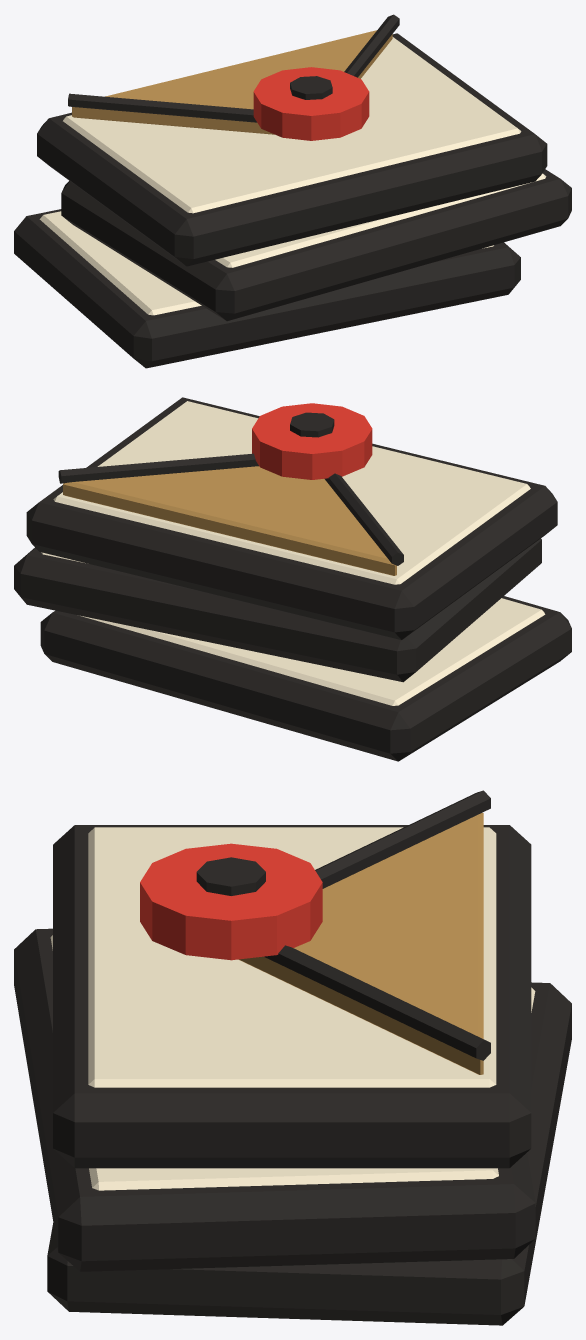
The model's file is credit.glb.
3 views of the same model, one above another, from view 1: azimuth 30°, elevation 25°; view 2: azimuth 150°, elevation 25°; view 3: azimuth 270°, elevation 25° (orthographic). The views are drawn at different scales.
Visible parts, largest first — view 1: credit-dark-envelope-edge-2, credit-cream-envelope-2, credit-dark-envelope-edge-1, credit-dark-envelope-edge-0, credit-large-envelope-flap, credit-large-red-wax-seal, credit-cream-envelope-0, credit-envelope-fold-left, credit-cream-envelope-1, credit-envelope-fold-right, credit-wax-seal-stamp; view 2: credit-dark-envelope-edge-2, credit-dark-envelope-edge-0, credit-dark-envelope-edge-1, credit-cream-envelope-2, credit-large-envelope-flap, credit-cream-envelope-0, credit-large-red-wax-seal, credit-envelope-fold-right, credit-envelope-fold-left, credit-wax-seal-stamp; view 3: credit-dark-envelope-edge-2, credit-cream-envelope-2, credit-dark-envelope-edge-1, credit-dark-envelope-edge-0, credit-large-envelope-flap, credit-large-red-wax-seal, credit-cream-envelope-1, credit-envelope-fold-right, credit-envelope-fold-left, credit-wax-seal-stamp.
Boxes of the visible parts, box(x1,y1,x2,y2) form: credit-dark-envelope-edge-2: box(37, 33, 547, 266); credit-cream-envelope-2: box(63, 37, 521, 213); credit-dark-envelope-edge-1: box(61, 169, 571, 321); credit-dark-envelope-edge-0: box(14, 209, 520, 368); credit-large-envelope-flap: box(72, 30, 392, 134); credit-large-red-wax-seal: box(253, 67, 369, 140); credit-cream-envelope-0: box(39, 211, 493, 315); credit-envelope-fold-left: box(68, 93, 256, 122); credit-cream-envelope-1: box(215, 173, 546, 267); credit-envelope-fold-right: box(344, 14, 399, 77); credit-wax-seal-stamp: box(290, 76, 332, 99); credit-dark-envelope-edge-2: box(26, 397, 557, 639); credit-dark-envelope-edge-0: box(40, 596, 571, 761); credit-dark-envelope-edge-1: box(14, 538, 541, 682); credit-cream-envelope-2: box(53, 401, 530, 584); credit-large-envelope-flap: box(63, 466, 396, 575); credit-cream-envelope-0: box(80, 598, 545, 705); credit-large-red-wax-seal: box(252, 403, 372, 479); credit-envelope-fold-right: box(58, 453, 258, 483); credit-envelope-fold-left: box(324, 473, 403, 565); credit-wax-seal-stamp: box(290, 412, 334, 437); credit-dark-envelope-edge-2: box(53, 825, 531, 1168); credit-cream-envelope-2: box(88, 827, 496, 1087); credit-dark-envelope-edge-1: box(14, 928, 535, 1271); credit-dark-envelope-edge-0: box(47, 982, 571, 1325); credit-large-envelope-flap: box(238, 813, 483, 1074); credit-large-red-wax-seal: box(140, 843, 322, 960); credit-cream-envelope-1: box(50, 935, 498, 1190); credit-envelope-fold-right: box(264, 945, 490, 1060); credit-envelope-fold-left: box(315, 790, 490, 888); credit-wax-seal-stamp: box(196, 857, 265, 895).
Bounding box in the file's own units: 2.15 × 1 × 1.54.
